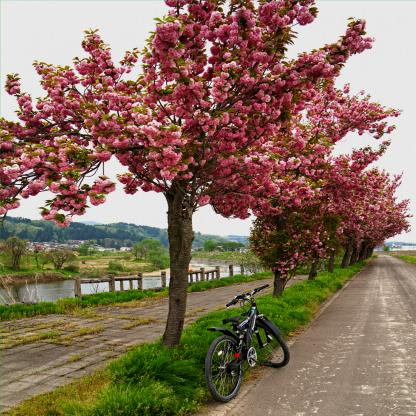YaeSakura: (0, 0, 388, 345), (246, 85, 405, 282), (372, 175, 413, 255), (366, 168, 400, 257), (317, 147, 340, 269), (308, 117, 324, 280), (334, 148, 354, 269), (353, 148, 369, 261)
